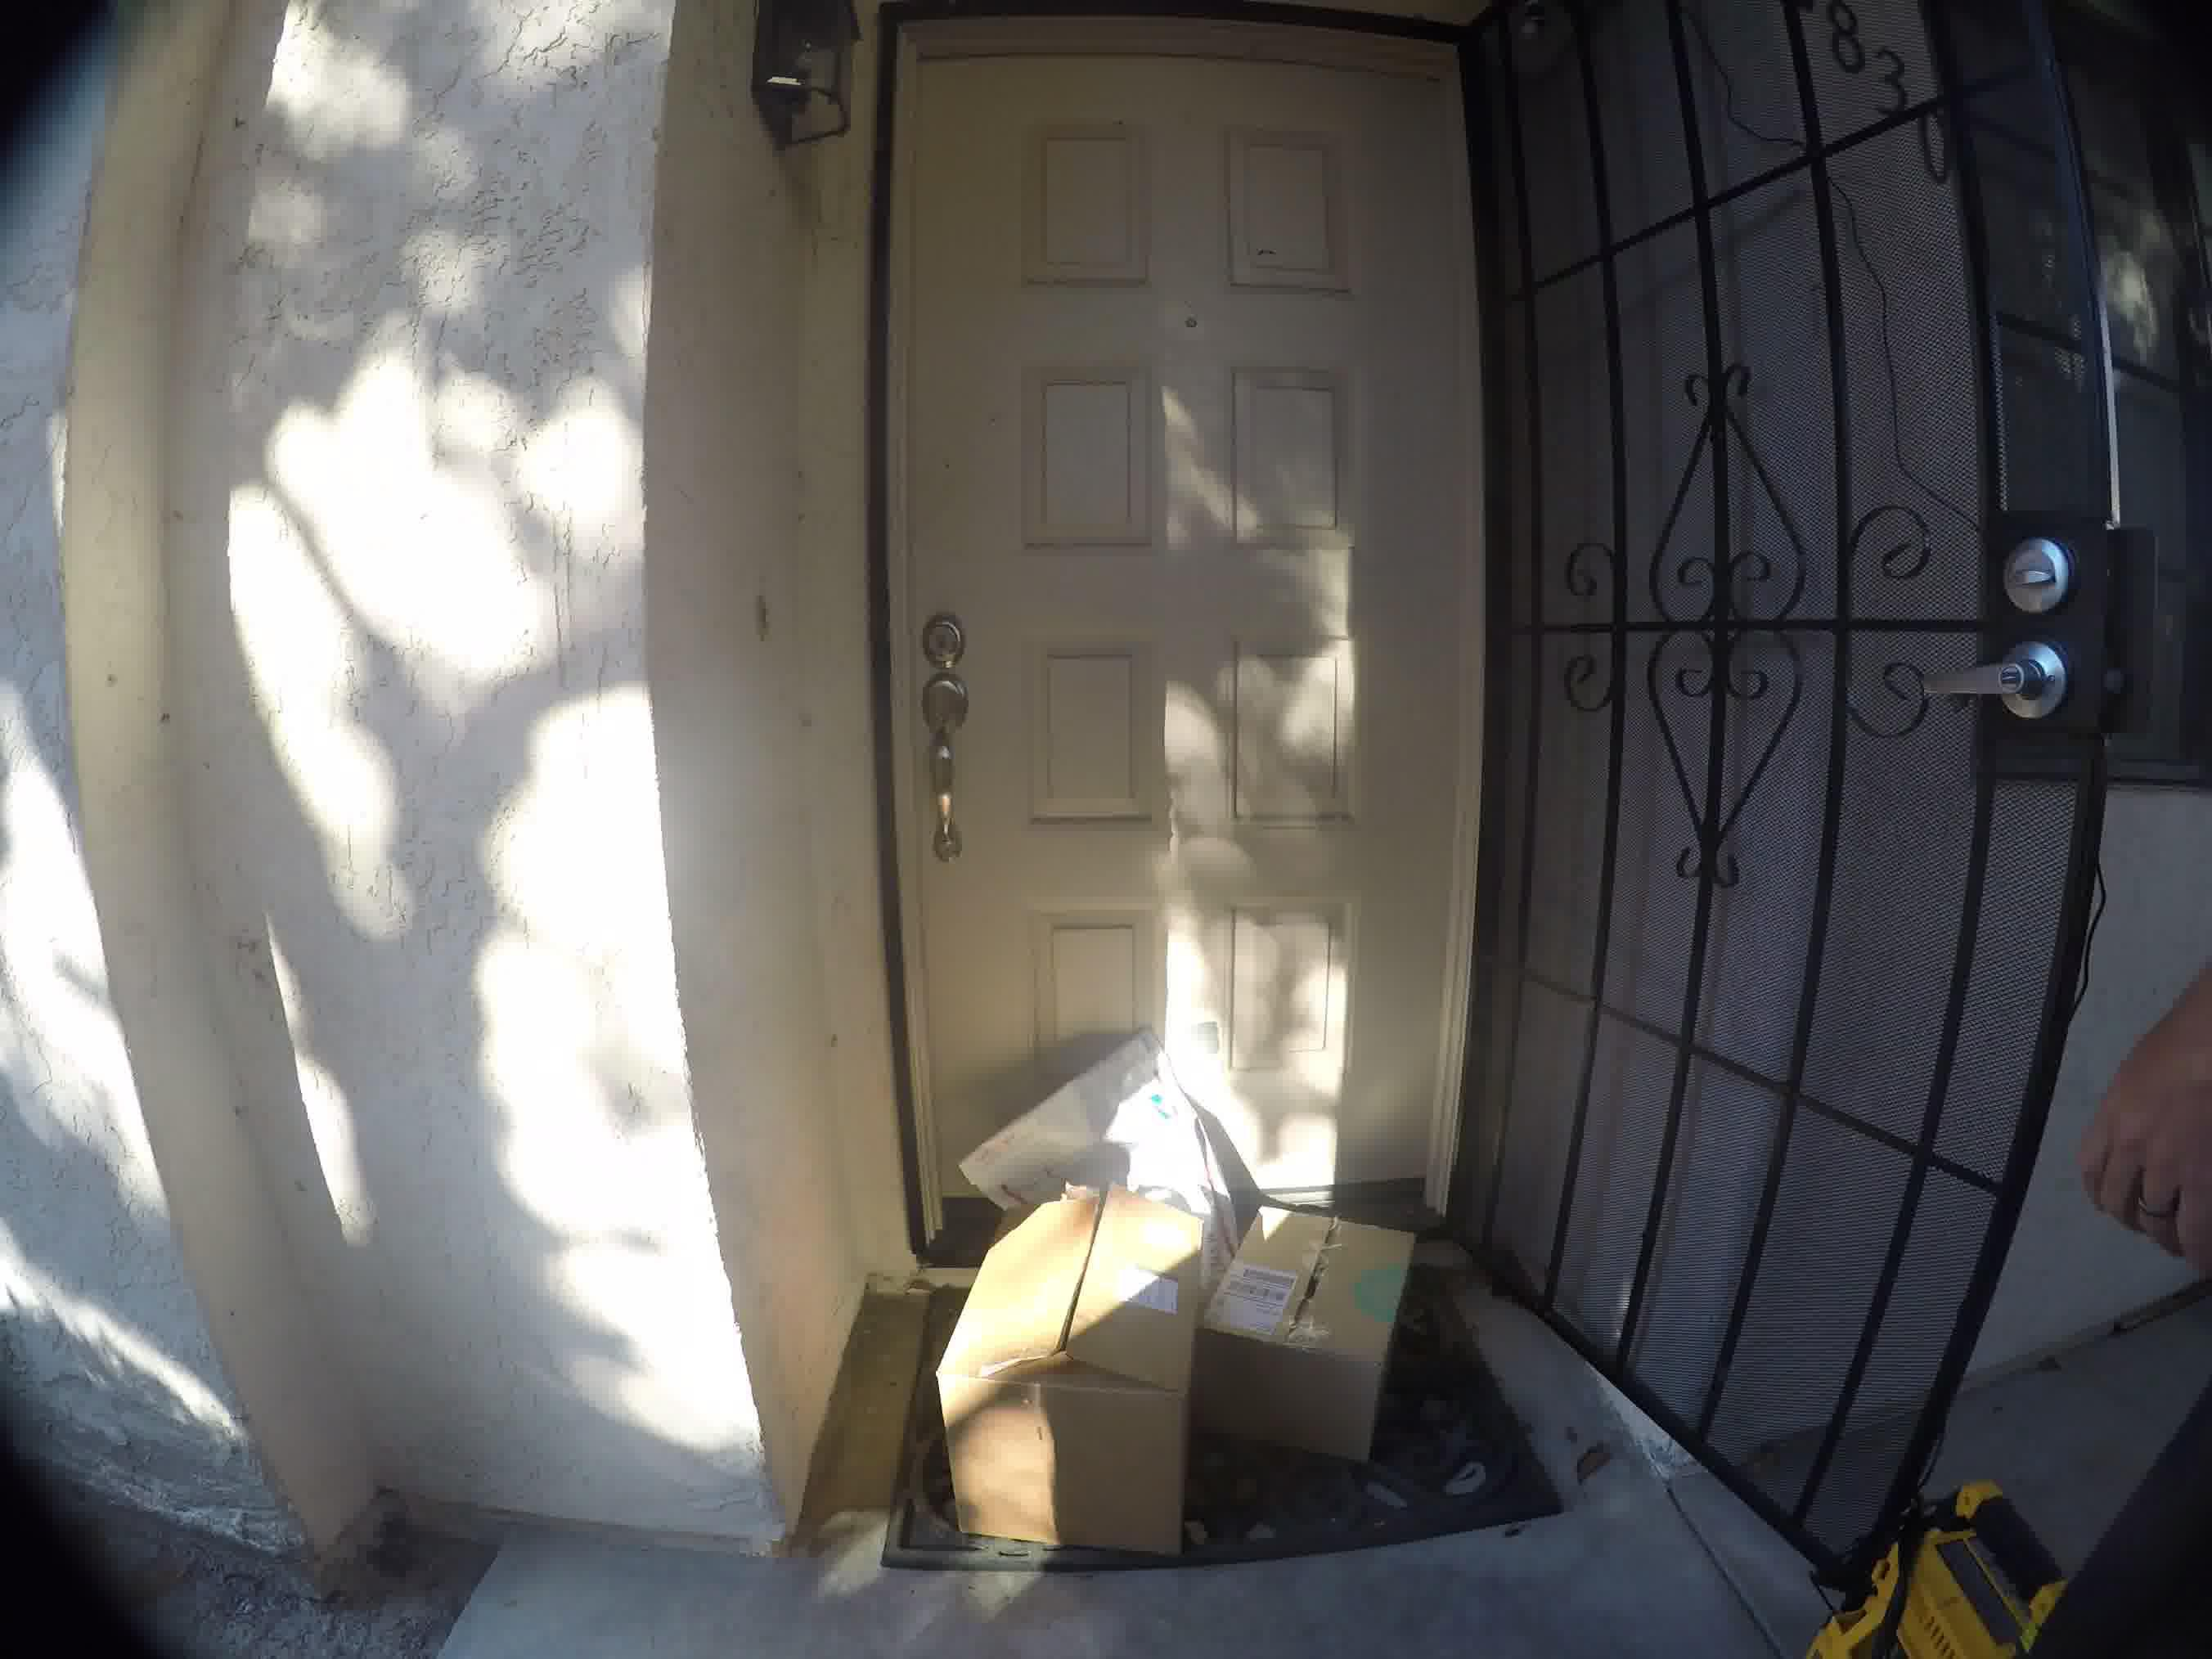box: (941, 1133, 1207, 1575), (1237, 1173, 1428, 1485)
